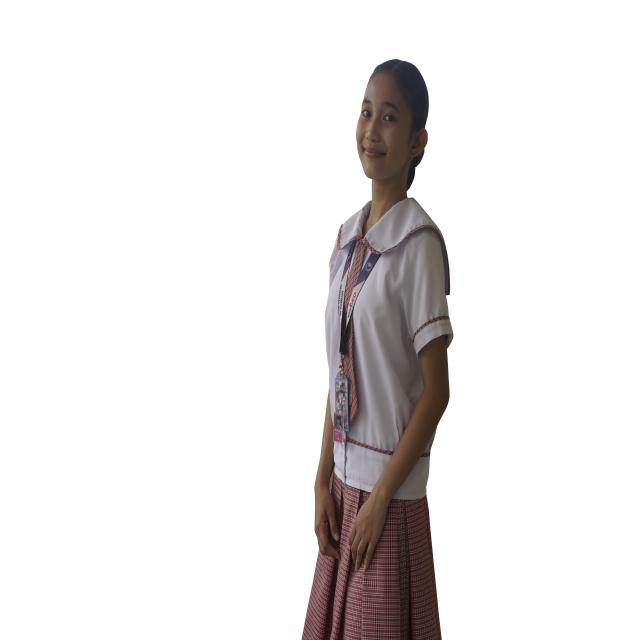id lace: (338, 238, 381, 360)
pologirl: (325, 198, 453, 491)
skirt: (302, 496, 441, 640), (331, 478, 370, 534)
